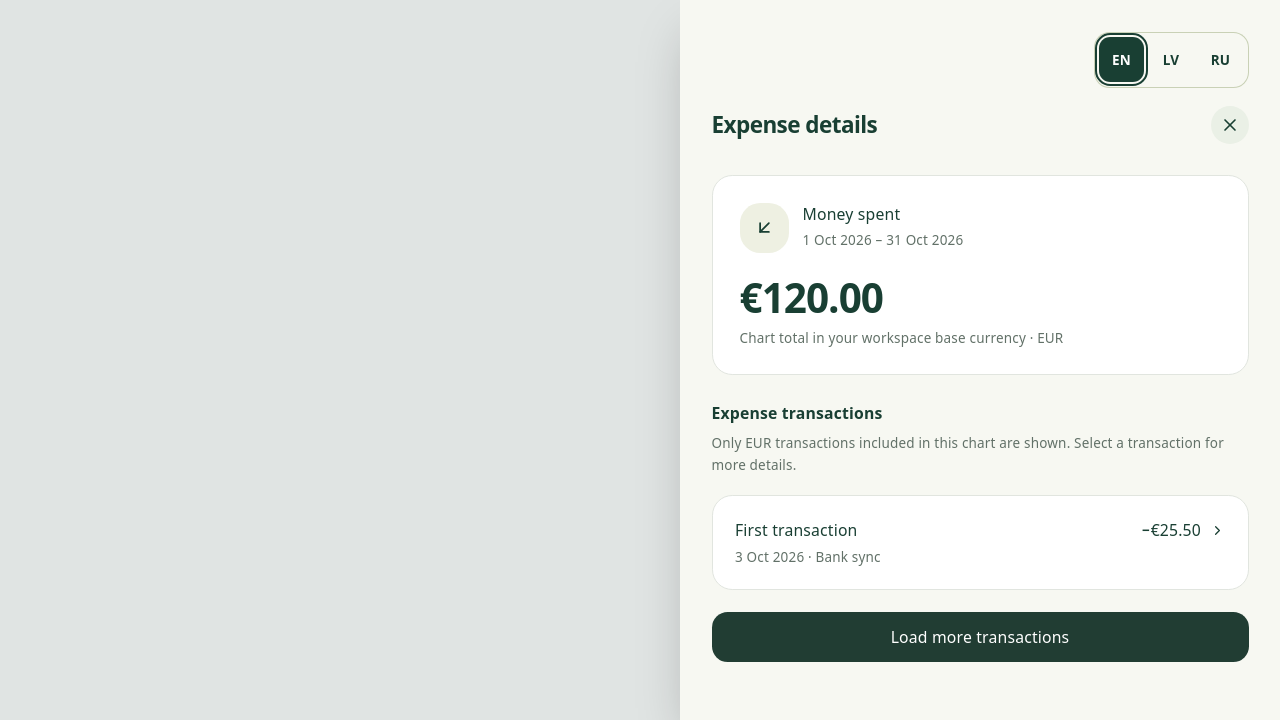
Test case: retries a failed page without losing already loaded transactions
Check: the text "First transaction" is shown, box left=735, top=519, right=858, bottom=541
What coordinates should you click on to do the following:
click the button "Load more transactions"
I would click on:
 (980, 637)
Its box is left=712, top=612, right=1248, bottom=662.
(page scrolled)
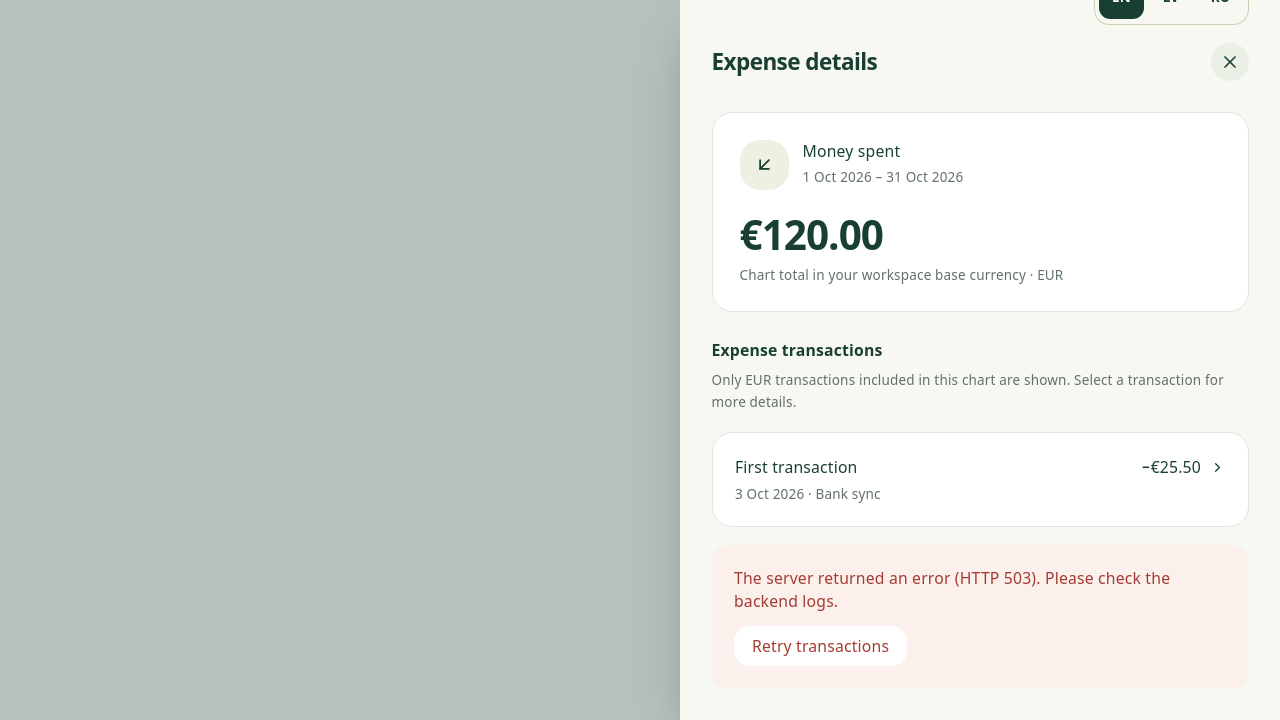
Check: the text "First transaction" is shown, box left=735, top=456, right=858, bottom=478
What coordinates should you click on to do the following:
click the button "Retry transactions"
I would click on:
 (821, 646)
Its box is left=734, top=626, right=907, bottom=666.
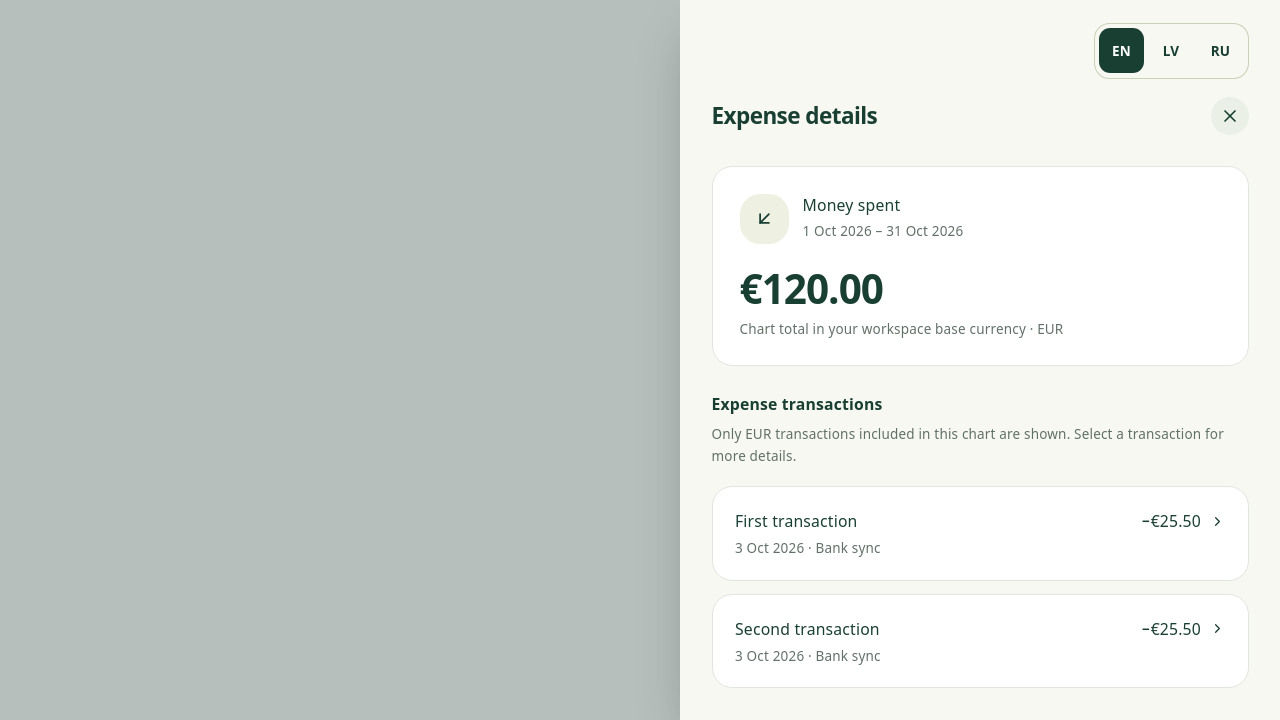
Check: the text "First transaction" is shown, box left=735, top=510, right=858, bottom=532
Check: the text "Second transaction" is shown, box left=735, top=618, right=881, bottom=640
